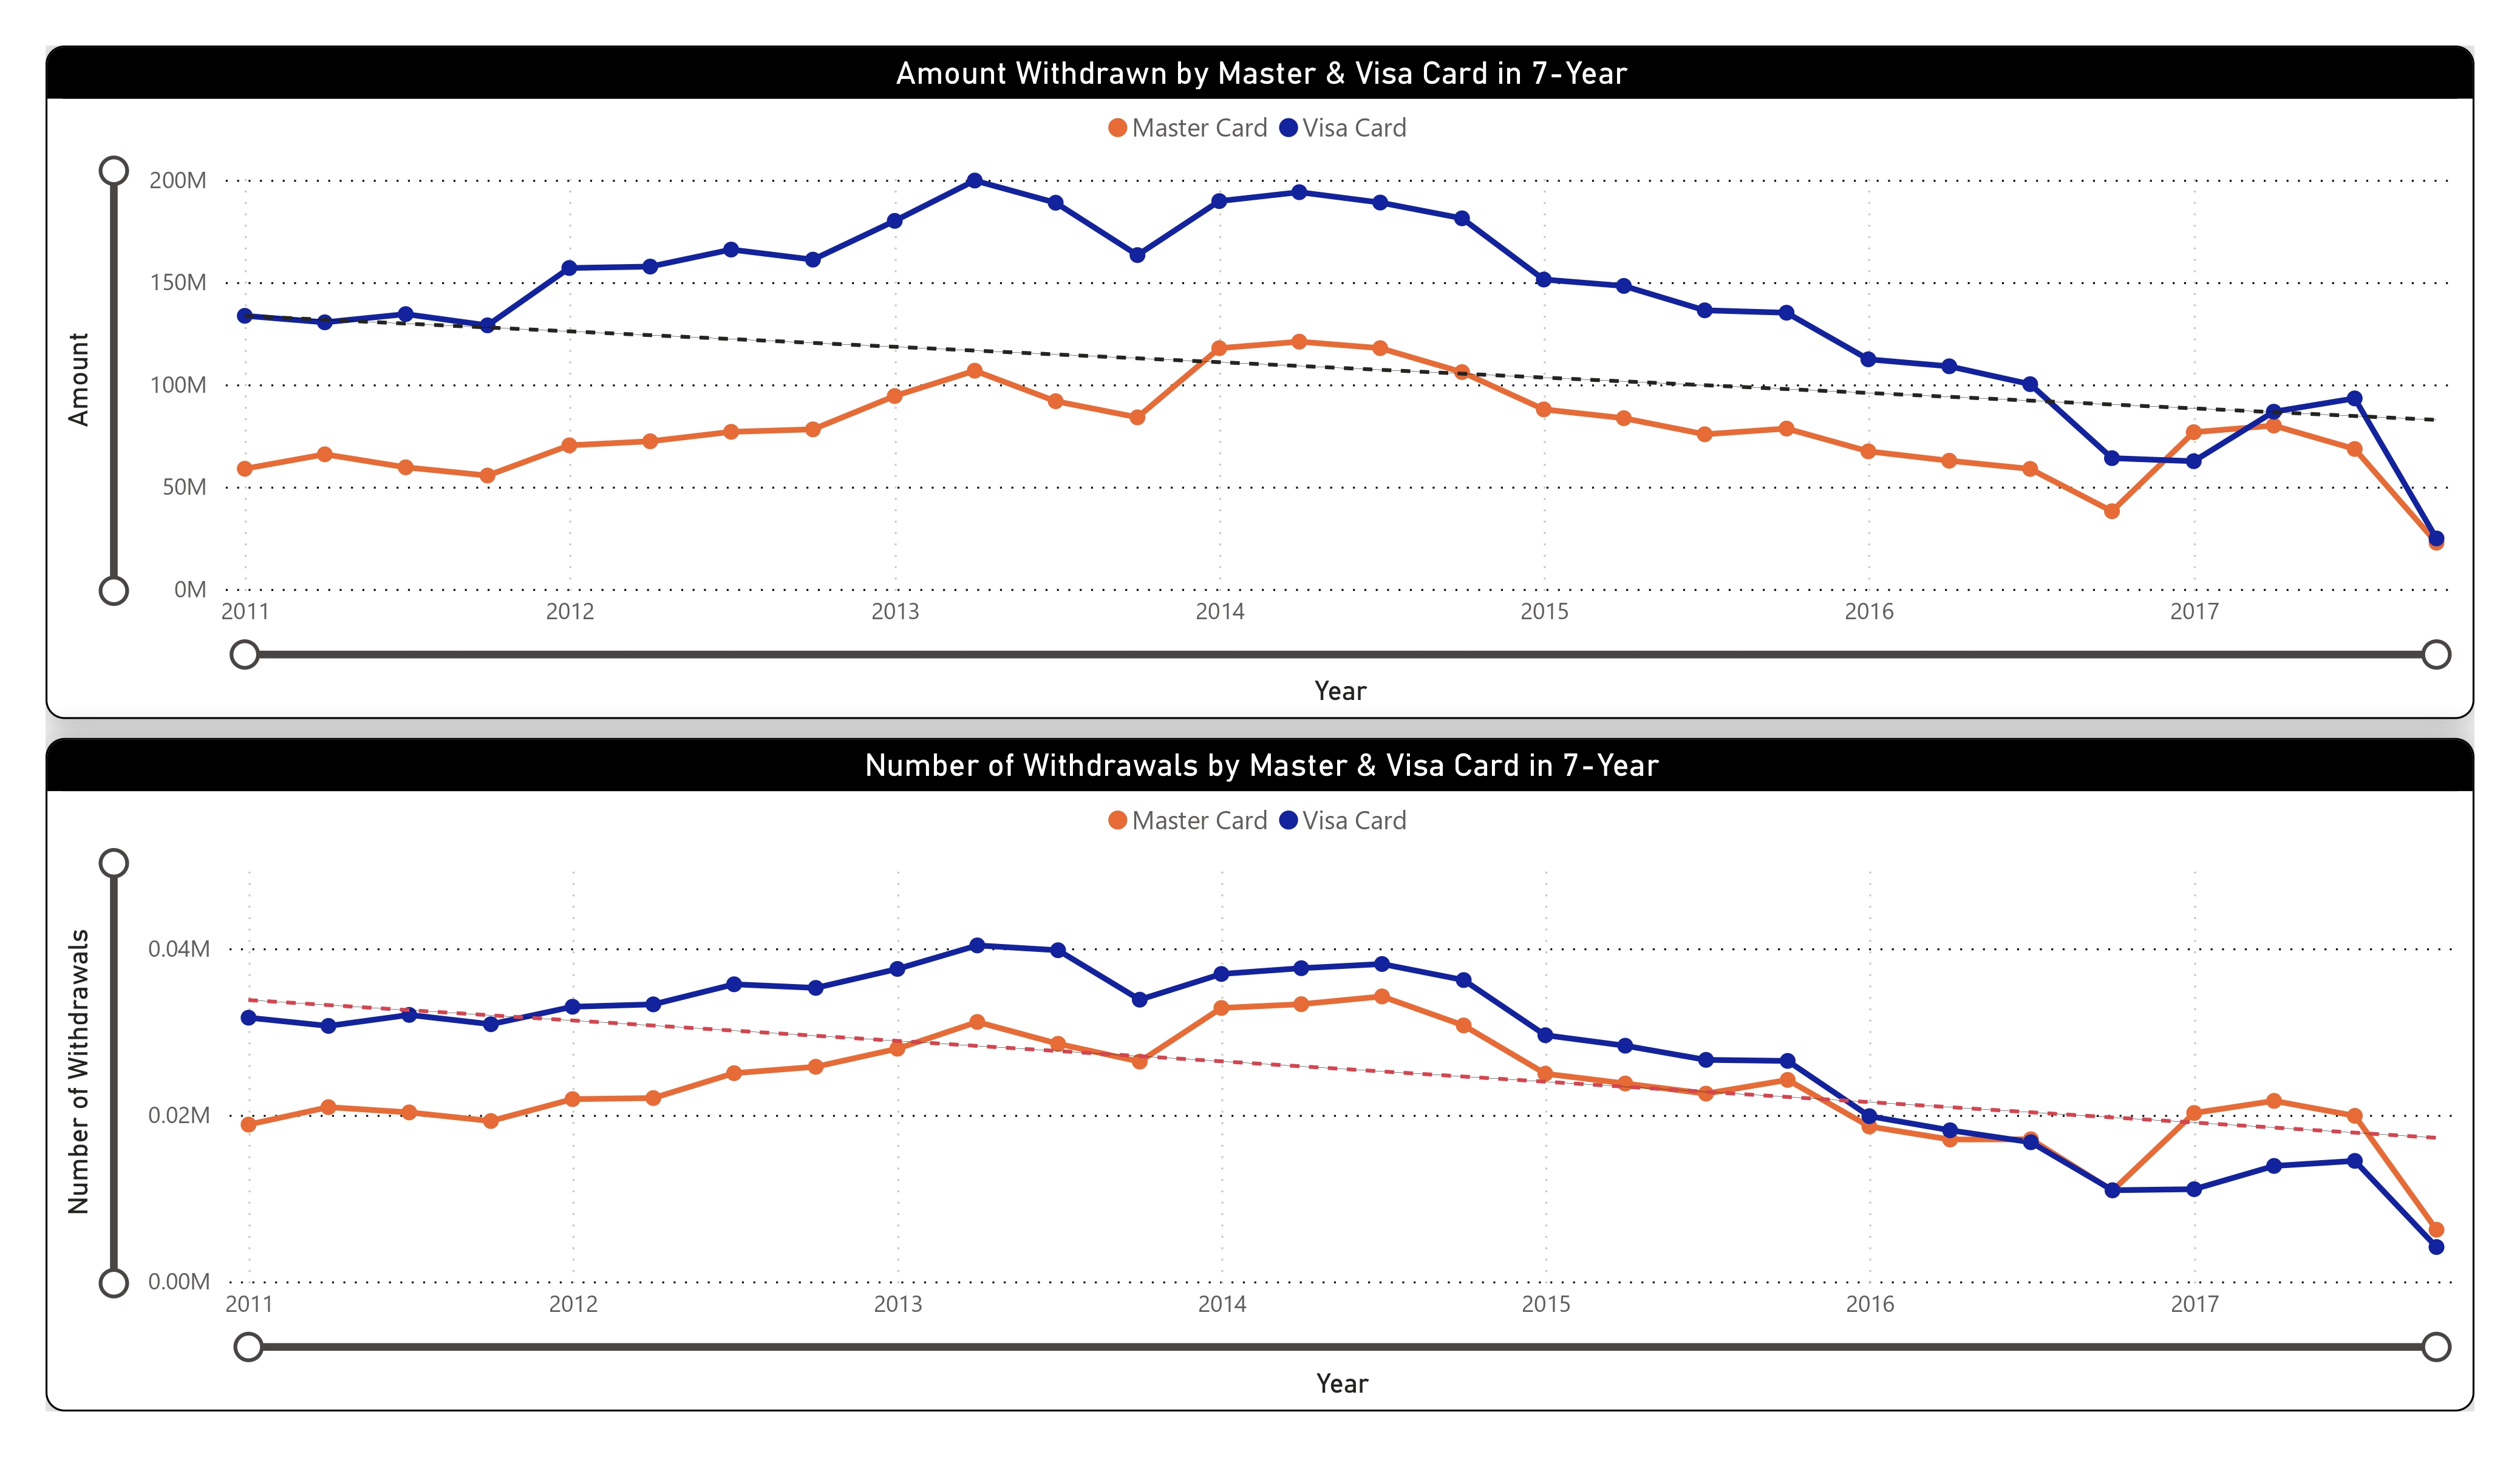

The page's visual inventory and layout, read from the dashboard file:
{"tool":"powerbi","page":{"name":"7-Year Performance","canvas":[1280,720],"ordinal":2},"visuals":[{"type":"lineChart","title":"Amount Withdrawn by Master & Visa Card in 7-Year","fields":{"Category":["Transaction Dataset.Transaction Date.Variation.Date Hierarchy.Year","Transaction Dataset.Transaction Date.Variation.Date Hierarchy.Quarter"],"Y":["Sum(Transaction Dataset.Amount Withdrawn-Master Card)","Sum(Transaction Dataset.Amount Withdrawn-Visa Card)"]},"box":[0,0,1280.3,354.9],"z":0},{"type":"lineChart","title":"Number of Withdrawals by Master & Visa Card in 7-Year","fields":{"Category":["Transaction Dataset.Transaction Date.Variation.Date Hierarchy.Year","Transaction Dataset.Transaction Date.Variation.Date Hierarchy.Quarter"],"Y":["Sum(Transaction Dataset.No of Withdrawals-Master Card)","Sum(Transaction Dataset.No of Withdrawals-Visa Card)"]},"box":[0,364.9,1280.3,354.9],"z":1000}]}

Visuals, with their boxes on the page's 1280x720 design canvas (x1, y1, x2, y2). These are canvas units, not pixel positions in the 2520x1457 screenshot, which may show the page scaled, cropped or inside an application window:
"Amount Withdrawn by Master & Visa Card in 7-Year" lineChart: box(0, 0, 1280, 355)
"Number of Withdrawals by Master & Visa Card in 7-Year" lineChart: box(0, 365, 1280, 720)
